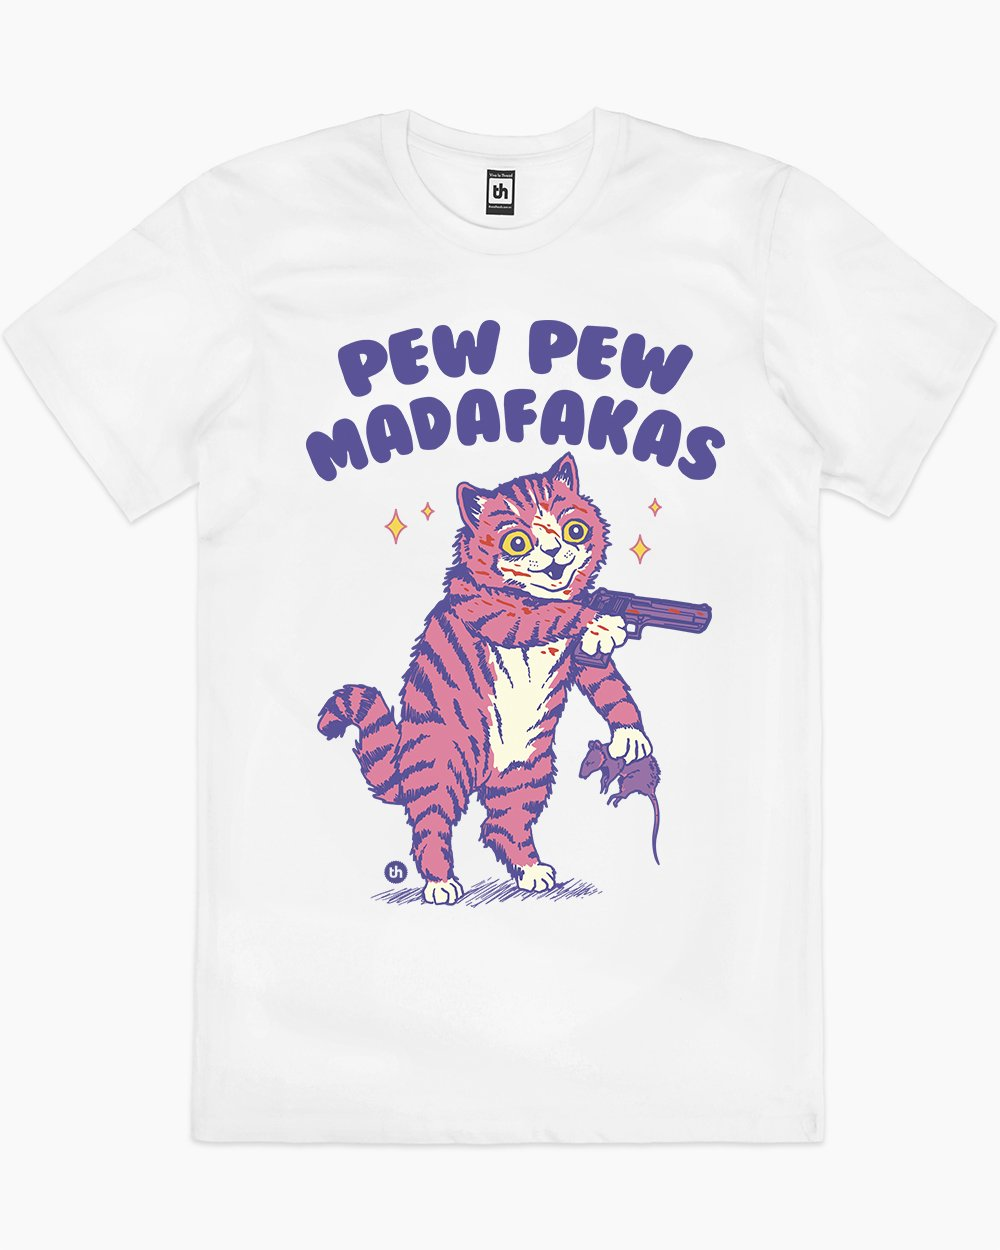design: (299, 315, 730, 912)
